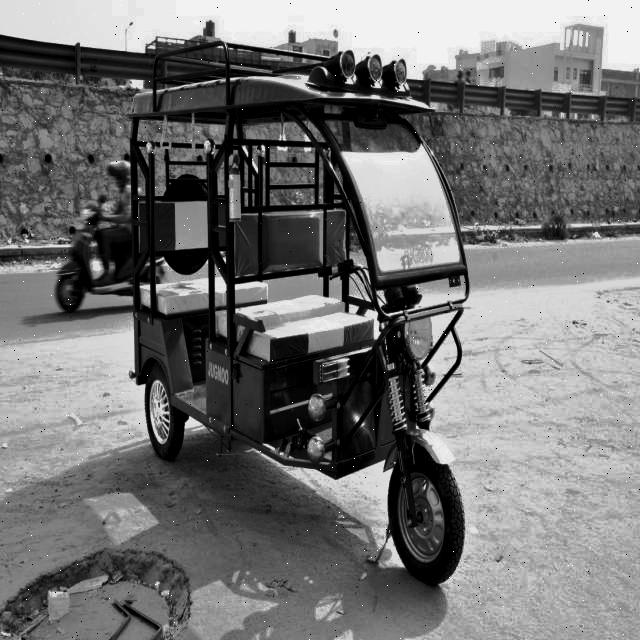Toto: (123, 73, 464, 585)
